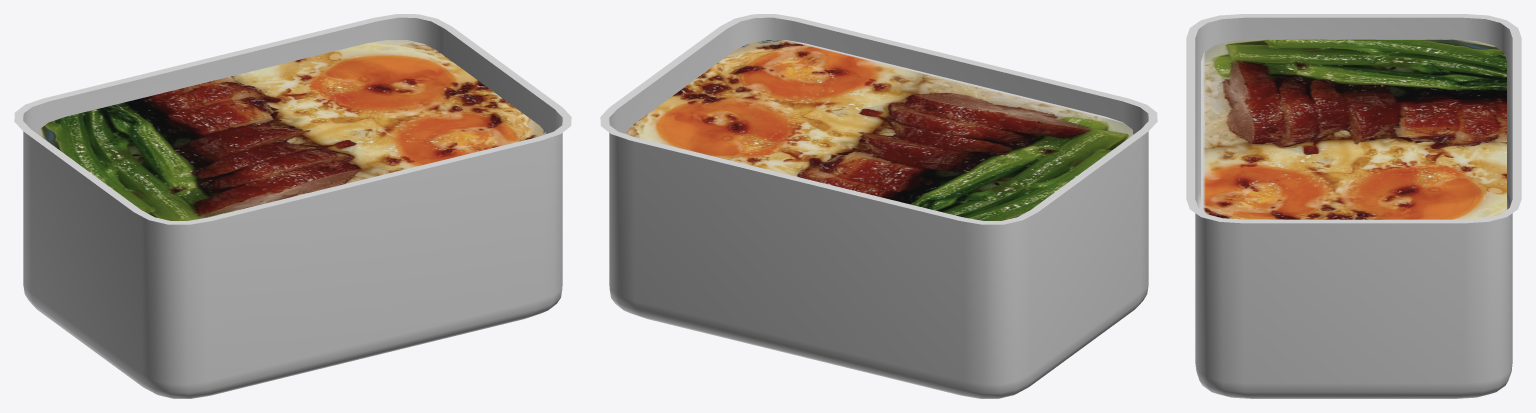
Rendered from mzxhcsdf.FBX.
3 renders of one model, left to right at view 1: azimuth 30°, elevation 25°; view 2: azimuth 150°, elevation 25°; view 3: azimuth 270°, elevation 25°, orthographic.
Parts seen in each view (by area): view 1: Box001; view 2: Box001; view 3: Box001.
Boxes of the visible parts, <box> form: Box001: <box>14,14,571,398</box>; Box001: <box>600,14,1157,398</box>; Box001: <box>1186,14,1521,398</box>.
Bounding box in the file's own units: 0.1169 × 0.0481 × 0.0791.
